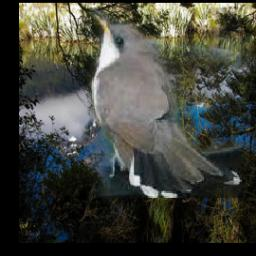Cuckoo: (86, 8, 241, 199)
